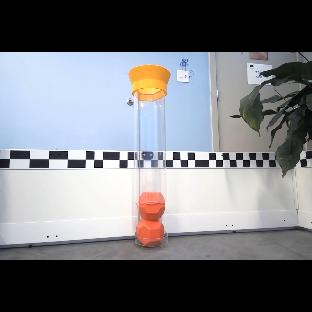Loader: (129, 64, 170, 248)
V5_RED: (137, 219, 165, 247), (138, 192, 165, 219)
